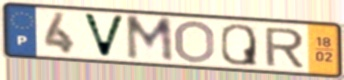4: (42, 10, 77, 56)
M: (123, 14, 176, 65)
O: (172, 19, 217, 65)
Q: (219, 22, 260, 68)
R: (262, 26, 306, 69)
V: (80, 11, 127, 60)
